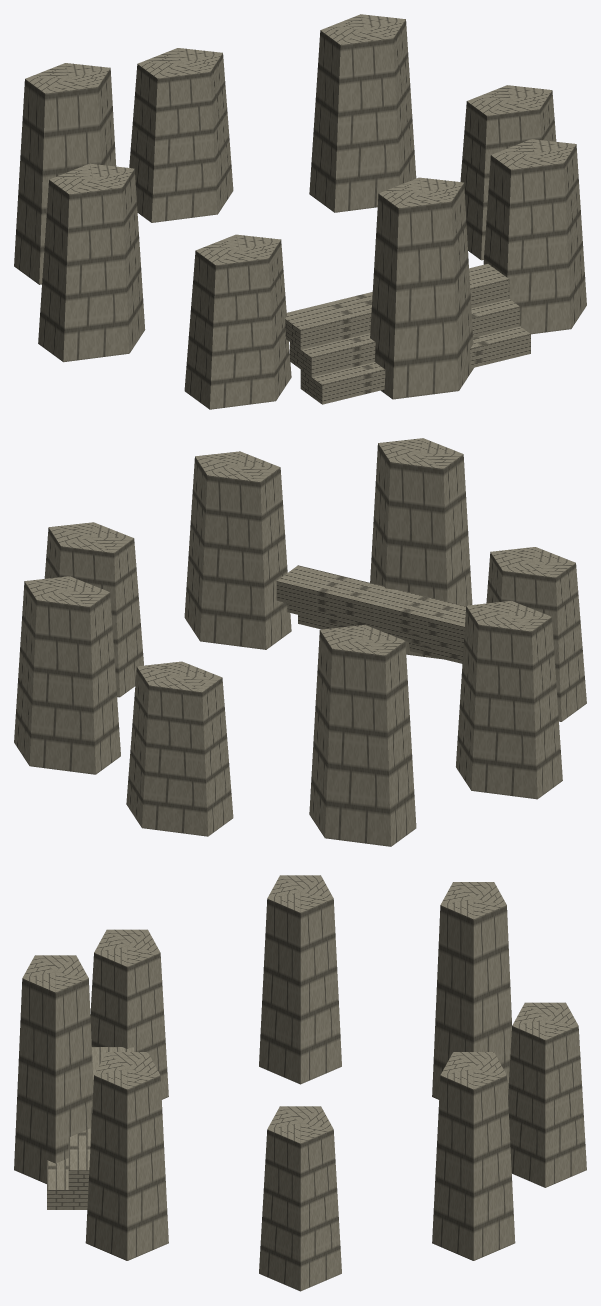
The model's file is military-STONE_MAZE-1-lod0.glb.
3 views of the same model, one above another, from view 1: azimuth 30°, elevation 25°; view 2: azimuth 150°, elevation 25°; view 3: azimuth 270°, elevation 25° (orthographic).
Size of the model in its own units: 0.6866 by 0.24 by 0.6551.
1 material, 1 textured.
